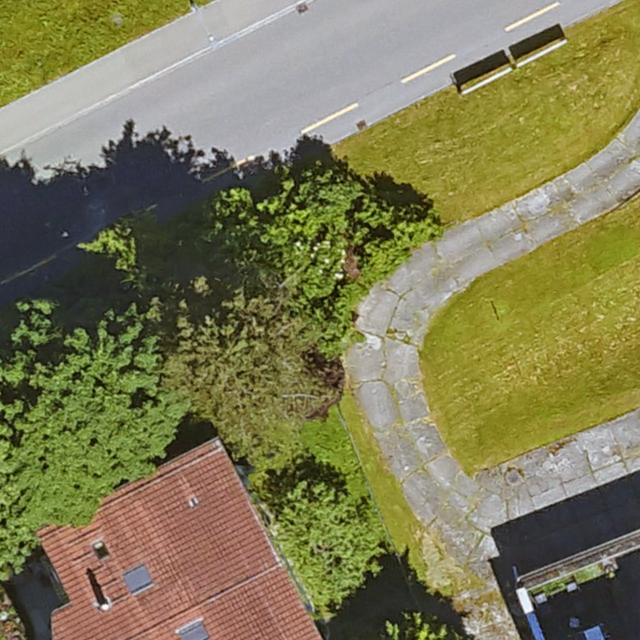tree: (0, 300, 151, 571), (177, 292, 309, 430), (222, 171, 369, 290), (375, 611, 453, 640)
